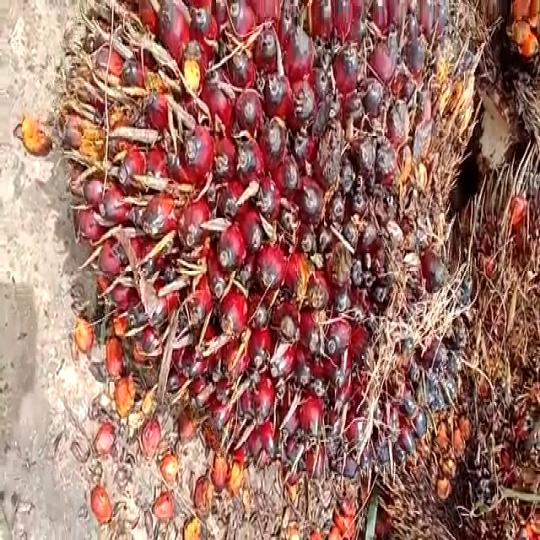kurang masak: (53, 0, 482, 494)
